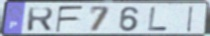6: (119, 6, 141, 33)
7: (87, 6, 113, 34)
F: (55, 5, 85, 33)
I: (185, 5, 195, 33)
L: (147, 7, 169, 32)
R: (26, 7, 55, 33)
